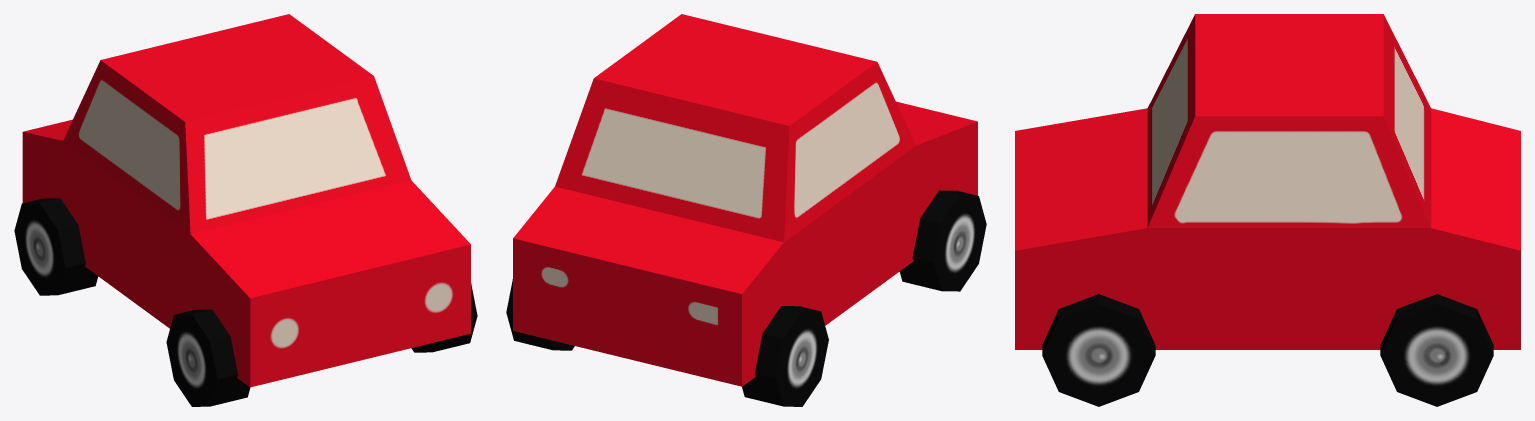
The model's file is ToyCar.fbx.
3 renders of one model, left to right at view 1: azimuth 30°, elevation 25°; view 2: azimuth 150°, elevation 25°; view 3: azimuth 270°, elevation 25°, orthographic. The views are drawn at different scales.
Parts seen in each view (by area): view 1: Cube, Cylinder.002, Cylinder.003, Cylinder.001; view 2: Cube, Cylinder.003, Cylinder.002, Cylinder.004; view 3: Cube, Cylinder.001, Cylinder.004.
Boxes of the visible parts, x1,y1,x2,y2 form: Cube: (22, 14, 470, 387); Cylinder.002: (14, 198, 98, 295); Cylinder.003: (166, 309, 250, 406); Cylinder.001: (411, 283, 477, 352); Cube: (513, 14, 977, 386); Cylinder.003: (899, 190, 986, 291); Cylinder.002: (742, 306, 828, 406); Cylinder.004: (506, 279, 574, 350); Cube: (1015, 14, 1520, 349); Cylinder.001: (1042, 294, 1155, 406); Cylinder.004: (1380, 294, 1493, 406).
Size of the model in its own units: 23.56 by 21.14 by 35.68.
